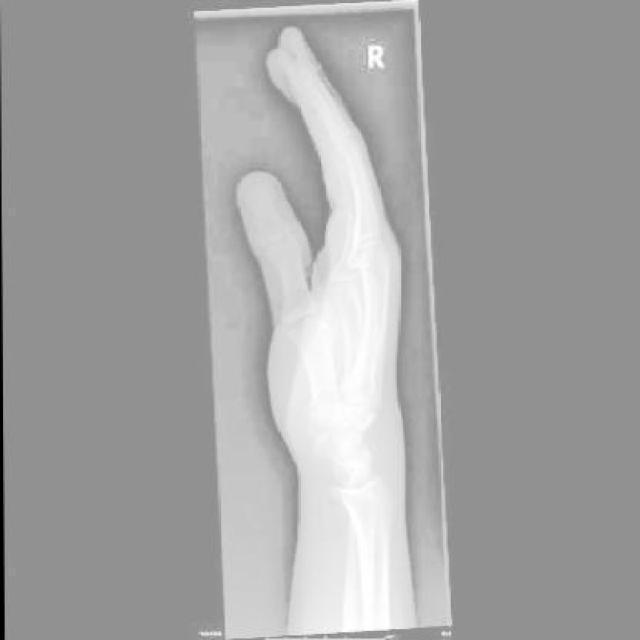Fracture: (359, 438, 376, 454)
